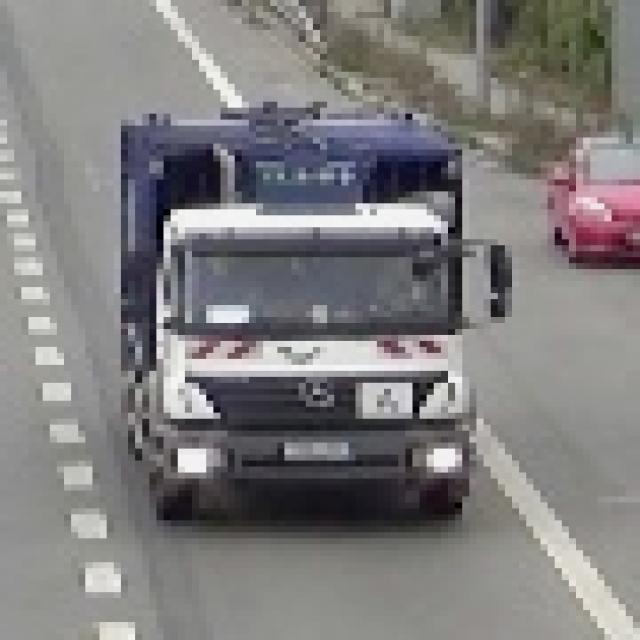truck: (108, 91, 506, 521)
